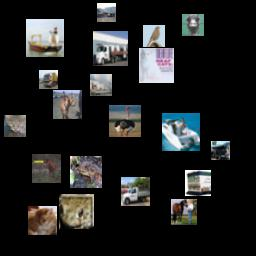bird: (109, 105, 141, 137), (143, 25, 165, 47), (182, 14, 204, 36)
cat: (139, 48, 174, 83), (28, 206, 57, 235), (4, 115, 26, 137)
dog: (53, 90, 82, 119)
frog: (59, 194, 94, 229), (70, 156, 102, 188)
ship: (26, 19, 64, 57), (162, 113, 200, 151), (90, 74, 112, 96)
truck: (93, 31, 128, 66), (121, 177, 150, 206), (185, 170, 211, 196), (211, 141, 230, 160), (97, 3, 116, 22), (39, 70, 58, 89)
